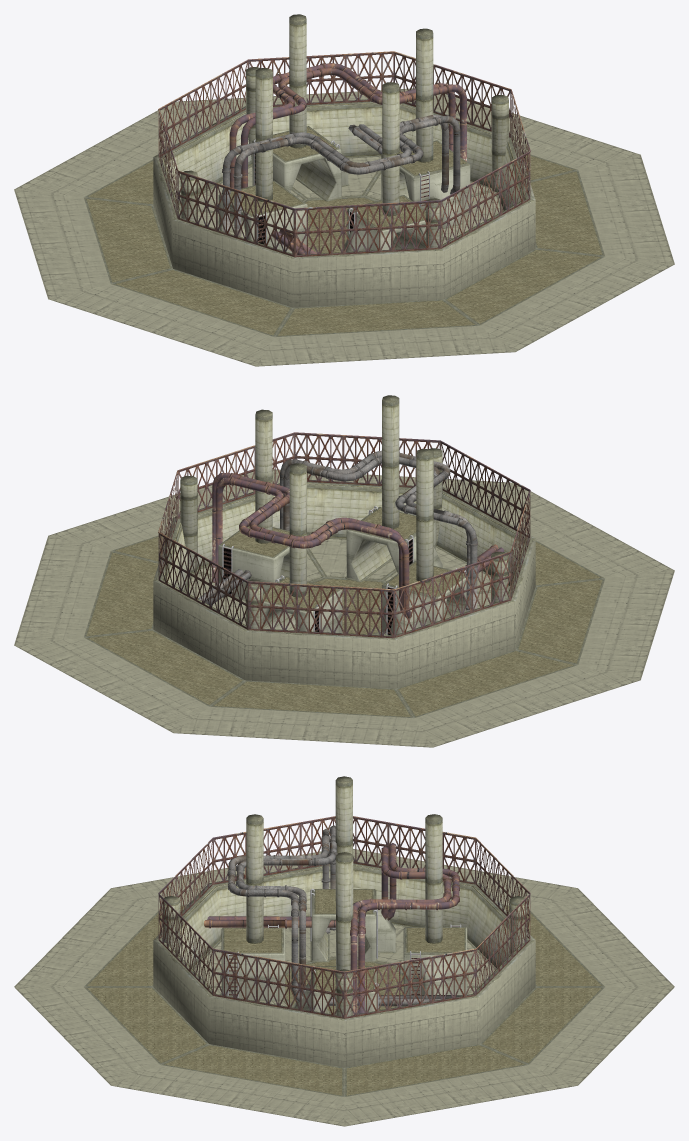
The model's file is BASKET_CHAHAR.fbx.
The picture shows the model from 3 angles, top to bottom: view 1: azimuth 30°, elevation 25°; view 2: azimuth 150°, elevation 25°; view 3: azimuth 270°, elevation 25°; orthographic projection. The views are drawn at different scales.
Parts seen in each view (by area): view 1: Basket_Chahar CONCRETE, Basket_Chahar METAL; view 2: Basket_Chahar CONCRETE, Basket_Chahar METAL; view 3: Basket_Chahar CONCRETE, Basket_Chahar METAL.
Boxes of the visible parts, bbox=[...] form: Basket_Chahar CONCRETE: bbox=[14, 14, 674, 366]; Basket_Chahar METAL: bbox=[158, 51, 530, 257]; Basket_Chahar CONCRETE: bbox=[14, 395, 674, 747]; Basket_Chahar METAL: bbox=[158, 432, 530, 638]; Basket_Chahar CONCRETE: bbox=[14, 776, 674, 1126]; Basket_Chahar METAL: bbox=[158, 816, 530, 1018].
Size of the model in its own units: 103 by 29.14 by 103.
